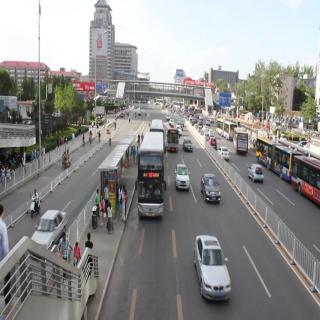BigCar: (135, 130, 169, 223), (253, 132, 296, 184), (164, 121, 180, 156), (231, 126, 249, 157)
Car: (191, 232, 236, 302), (33, 203, 67, 256), (200, 162, 227, 214), (170, 166, 196, 193), (249, 157, 268, 184), (216, 144, 232, 171)
